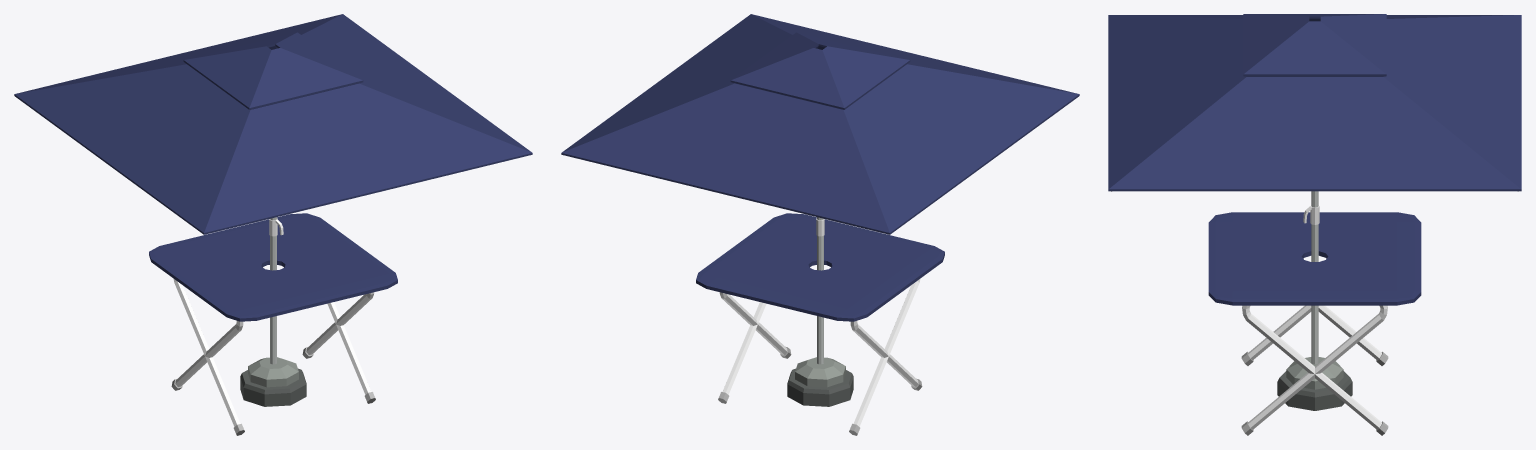
File: TableBar_01.glb
The picture shows the model from 3 angles, left to right: view 1: azimuth 30°, elevation 25°; view 2: azimuth 150°, elevation 25°; view 3: azimuth 270°, elevation 25°; orthographic projection. The views are drawn at different scales.
Parts seen in each view (by area): view 1: TableBar_01; view 2: TableBar_01; view 3: TableBar_01.
Boxes of the visible parts, x1=… form: TableBar_01: x1=14, y1=14, x2=532, y2=435; TableBar_01: x1=561, y1=14, x2=1079, y2=435; TableBar_01: x1=1108, y1=14, x2=1521, y2=435.
Size of what is drawn, in the model's own units: 2.78 by 2.82 by 2.78.
1 material, 1 textured.
